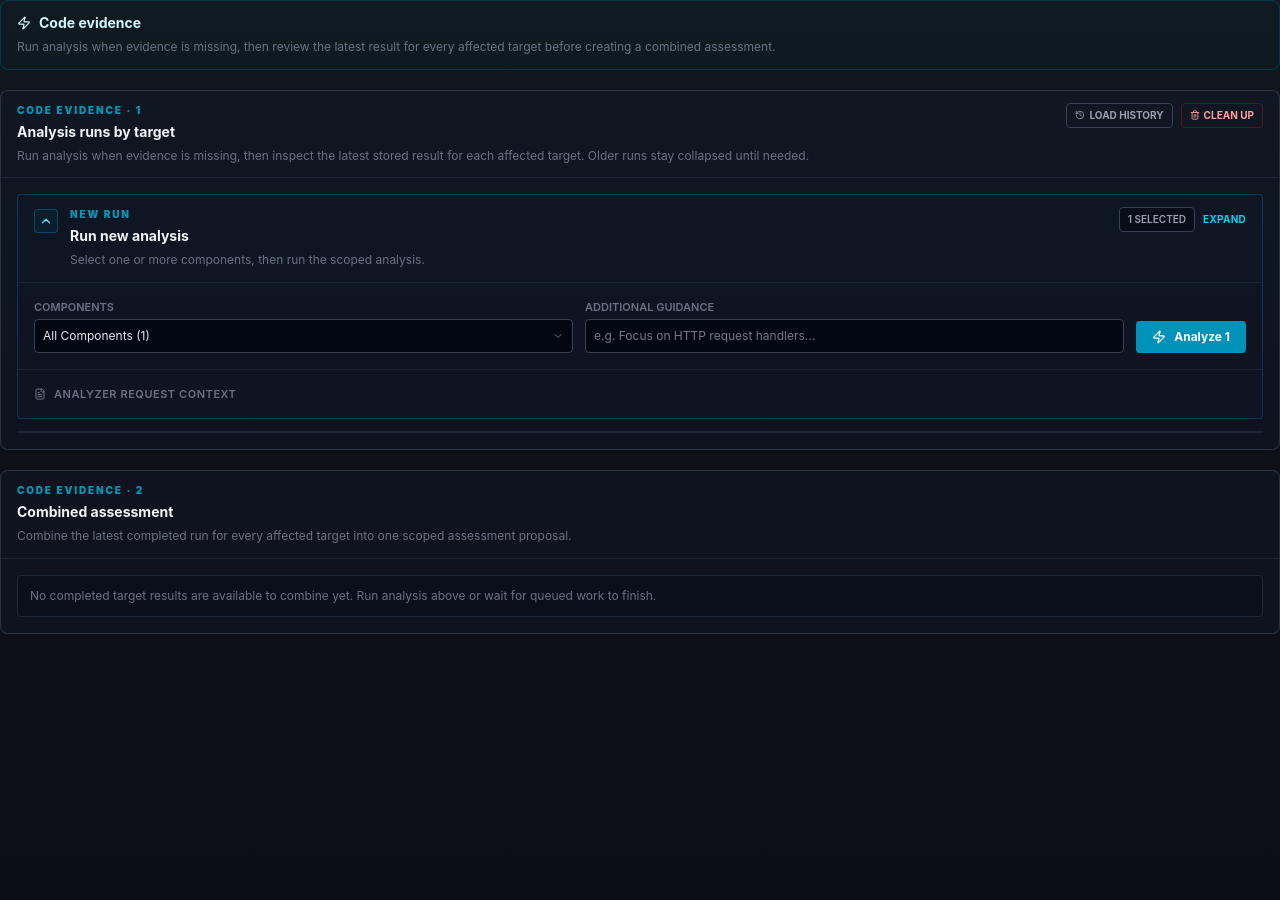
CodeAnalysisPanel › loads configured prompt fallback with additional request guidance only when requested
Type "Also check upstream Keycloak exposure." into the field with id "code-analysis-guidance" at {"x": 855, "y": 336}, box [585,319,1124,353]
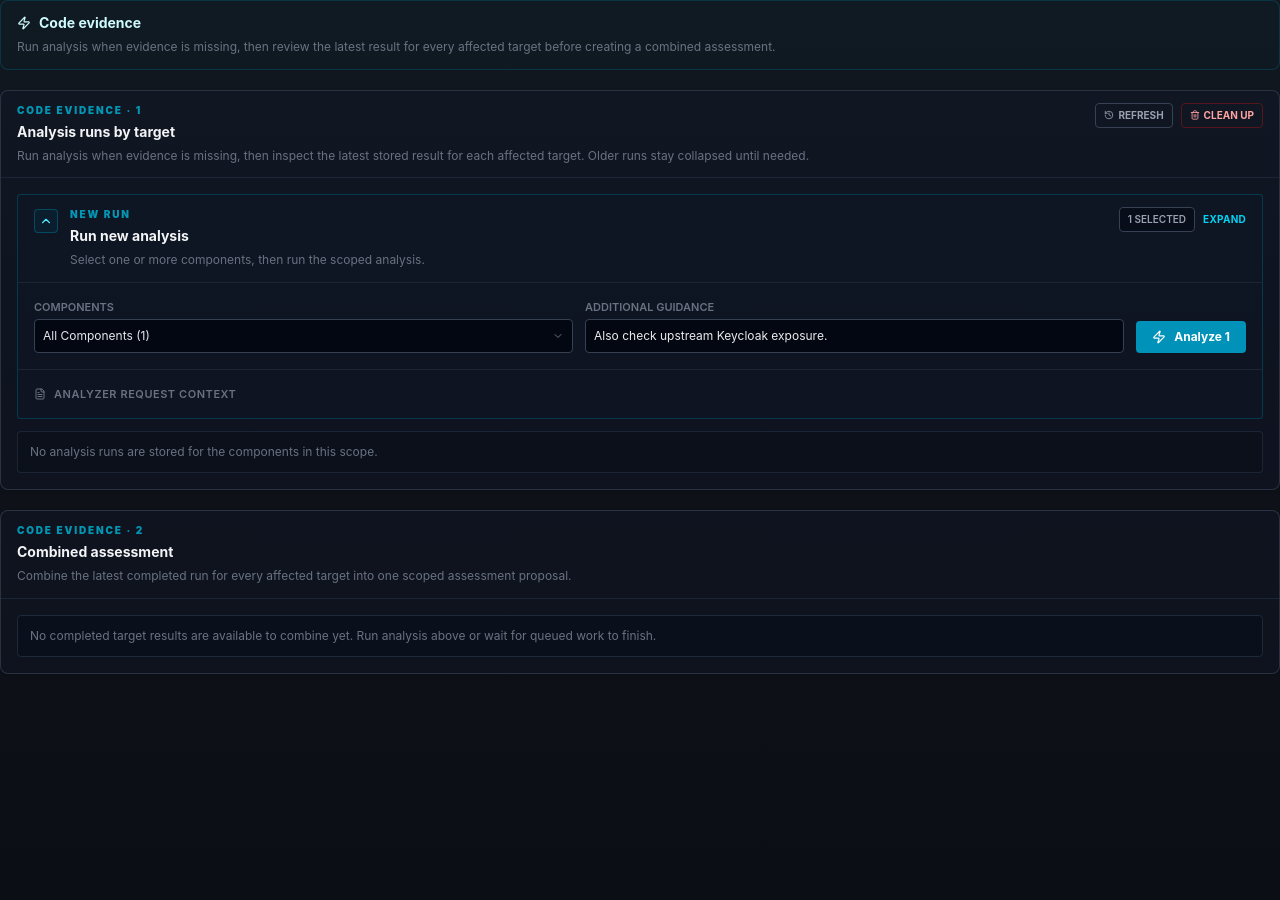
Click the button "Analyzer request context" at {"x": 135, "y": 394}, box [34,386,236,402]
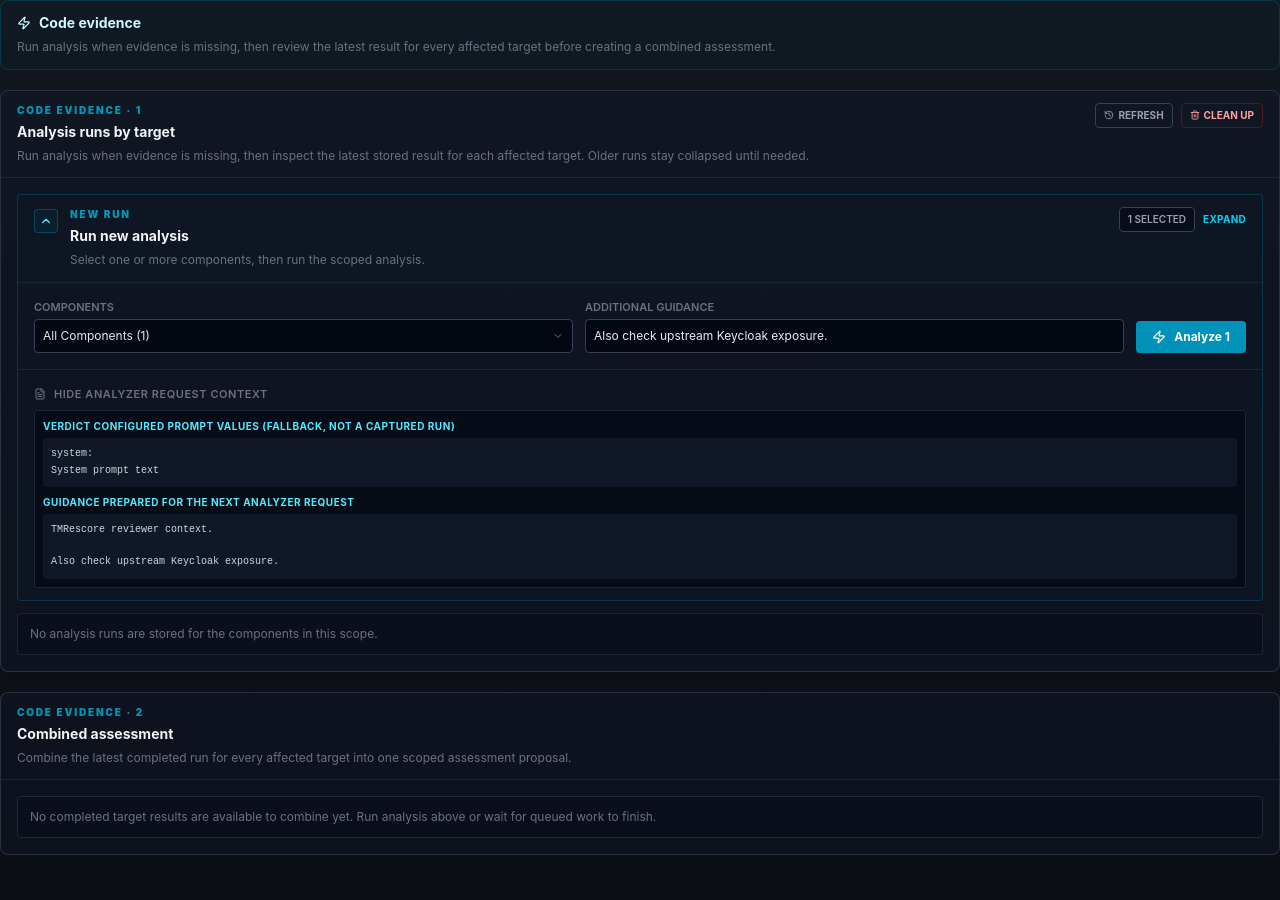
Expected: the text "System prompt text" is shown, [51,448,159,476]
Expected: the text "Guidance prepared for the next analyzer request" is shown, [43,496,354,508]
Expected: the text "TMRescore reviewer context." is shown, [51,524,279,567]
